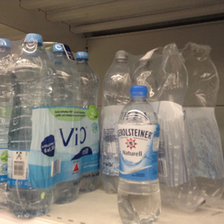water: (5, 33, 55, 220), (116, 85, 166, 224), (47, 43, 81, 201)
